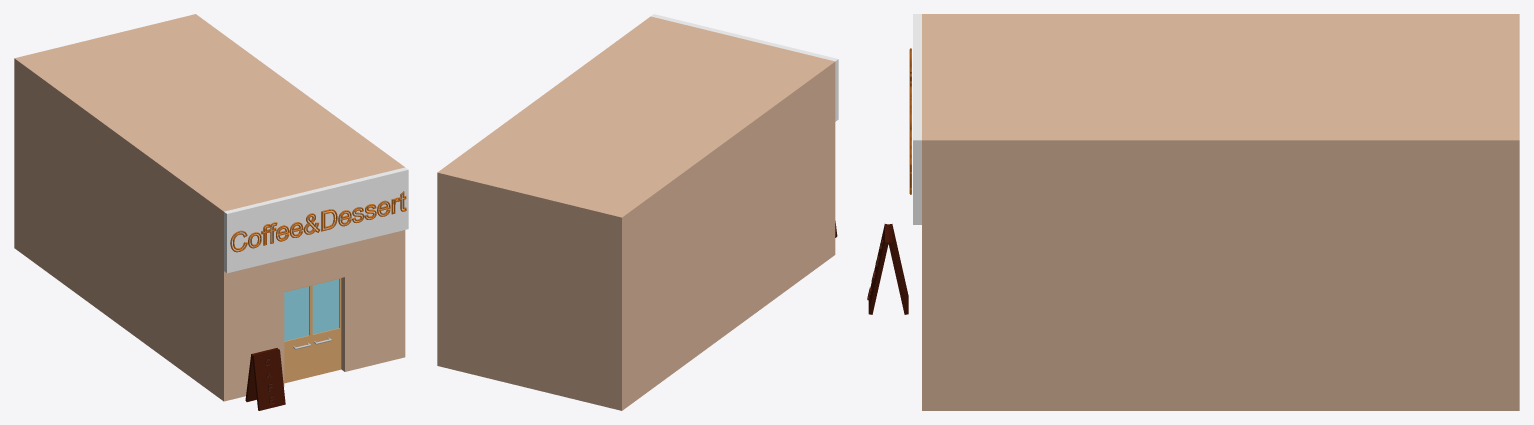
File: cafe.fbx
3 renders of one model, left to right at view 1: azimuth 30°, elevation 25°; view 2: azimuth 150°, elevation 25°; view 3: azimuth 270°, elevation 25°, orthographic. The views are drawn at different scales.
Visible parts, largest first — view 1: main, right door, left door, cafeSign; view 2: main; view 3: main, cafeSign.
Boxes of the visible parts, x1,y1,x2,y2 form: main: (14,14,408,401); right door: (311,278,341,376); left door: (284,285,311,383); cafeSign: (245,348,285,410); main: (437,14,838,410); main: (909,14,1519,410); cafeSign: (867,224,908,314).
Bounding box in the file's own units: 300 × 302 × 655.
